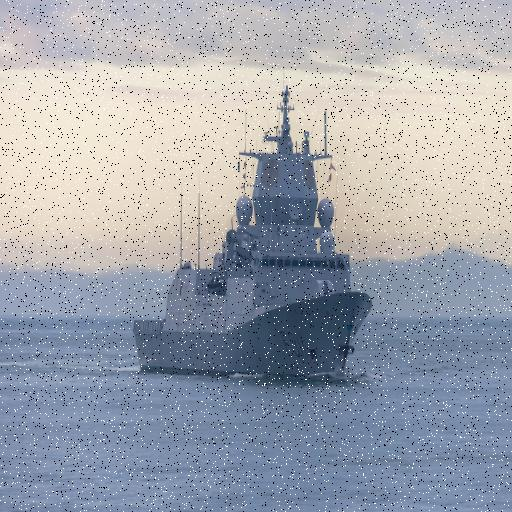Fragata: (131, 74, 376, 392)
